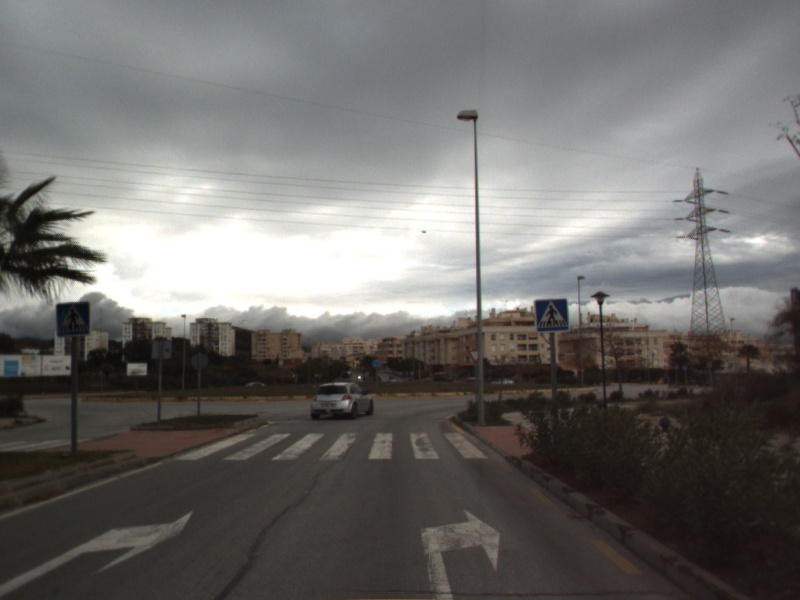RIGHT: (1, 507, 196, 597), (418, 506, 503, 600)
